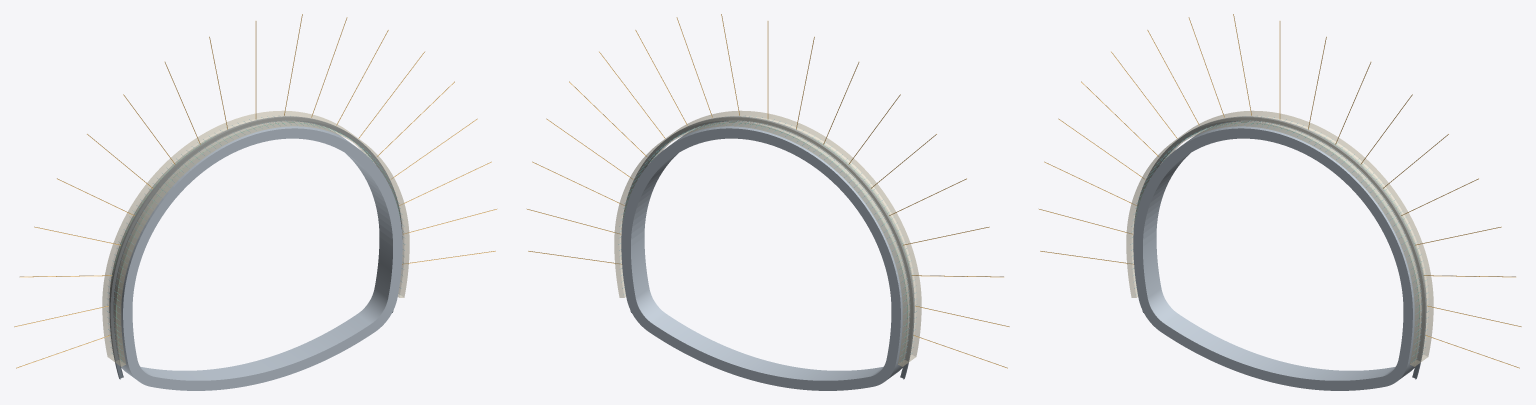
The model's file is ZZ-IVb_support_1m.glb.
The picture shows the model from 3 angles, left to right: view 1: azimuth 30°, elevation 25°; view 2: azimuth 150°, elevation 25°; view 3: azimuth 330°, elevation 25°; orthographic projection.
Parts seen in each view (by area): view 1: secondaryLining, primarySupportConcrete, steelArch_001; view 2: secondaryLining, primarySupportConcrete, steelArch_001; view 3: secondaryLining, primarySupportConcrete, steelArch_001.
Part boxes in pixels (<box>): secondaryLining: <box>110,121,402,390</box>; primarySupportConcrete: <box>102,110,409,366</box>; steelArch_001: <box>109,116,402,379</box>; secondaryLining: <box>621,121,913,390</box>; primarySupportConcrete: <box>614,110,921,366</box>; steelArch_001: <box>621,116,914,379</box>; secondaryLining: <box>1133,121,1425,390</box>; primarySupportConcrete: <box>1126,110,1433,366</box>; steelArch_001: <box>1133,116,1426,379</box>.
Size of the model in its own units: 20.4 by 14.4 by 1.
